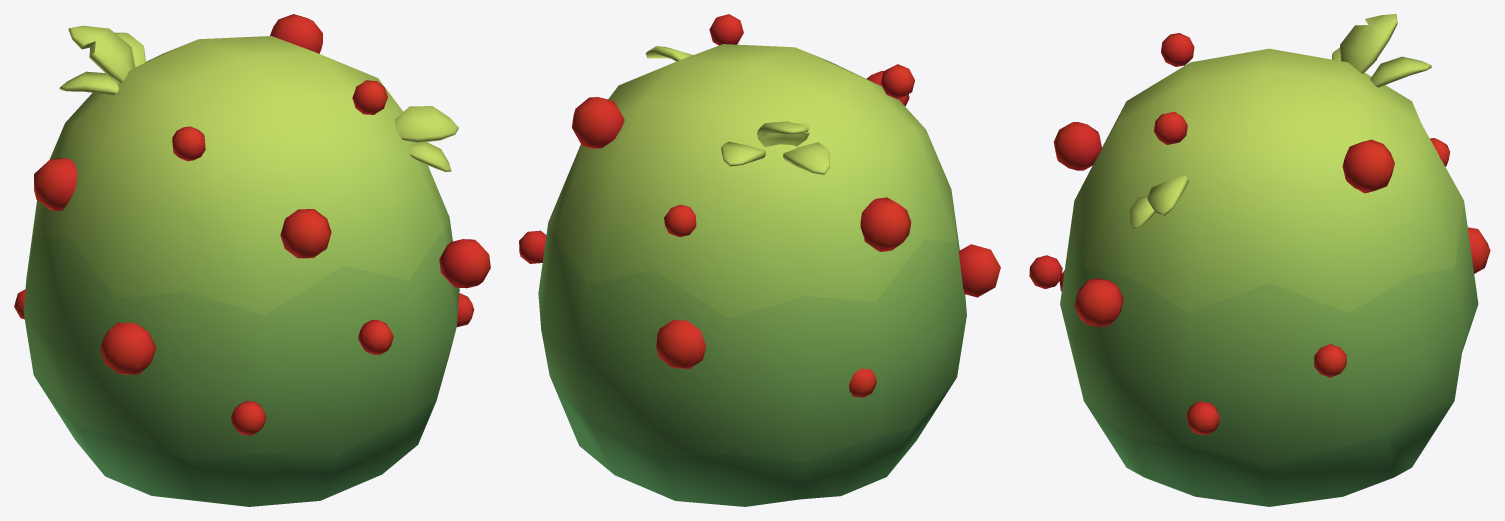
Rendered from bushLarge.glb.
The picture shows the model from 3 angles, left to right: view 1: azimuth 30°, elevation 25°; view 2: azimuth 150°, elevation 25°; view 3: azimuth 270°, elevation 25°; orthographic projection. The views are drawn at different scales.
Visible parts, largest first — view 1: bushLarge, bushBerry; view 2: bushLarge, bushBerry; view 3: bushLarge, bushBerry.
Part boxes in pixels (bbox=[...]): bushLarge: bbox=[23, 25, 459, 506]; bushBerry: bbox=[14, 14, 490, 435]; bushLarge: bbox=[538, 44, 966, 506]; bushBerry: bbox=[519, 14, 1000, 397]; bushLarge: bbox=[1060, 14, 1478, 506]; bushBerry: bbox=[1029, 33, 1490, 434].
Size of the model in its own units: 0.4436 by 0.4333 by 0.4626.
Materials: 1 (1 with a texture image).
